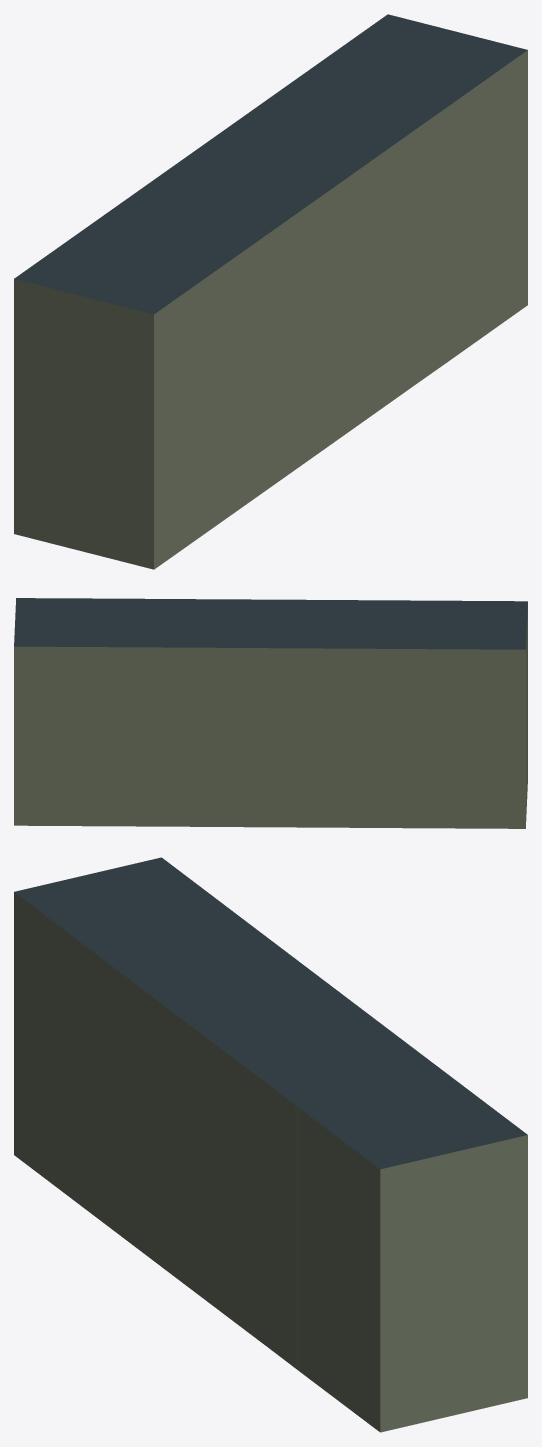
Rendered from nyc-1014504-0.glb.
3 renders of one model, top to bottom at view 1: azimuth 30°, elevation 25°; view 2: azimuth 150°, elevation 25°; view 3: azimuth 270°, elevation 25°, orthographic. The views are drawn at different scales.
Visible parts, largest first — view 1: nyc-1014504-0; view 2: nyc-1014504-0; view 3: nyc-1014504-0.
Part boxes in pixels (box(x1,y1,x2,y2)): nyc-1014504-0: box(14, 14, 527, 569); nyc-1014504-0: box(14, 598, 527, 828); nyc-1014504-0: box(14, 857, 527, 1432).
Bounding box in the file's own units: 29.95 × 11.78 × 20.85.
